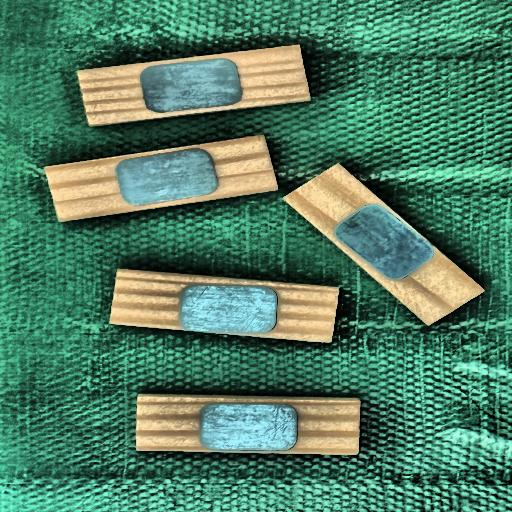objects: (282, 152, 485, 339), (44, 134, 278, 223), (77, 43, 311, 125), (109, 268, 338, 343), (135, 395, 359, 455)
